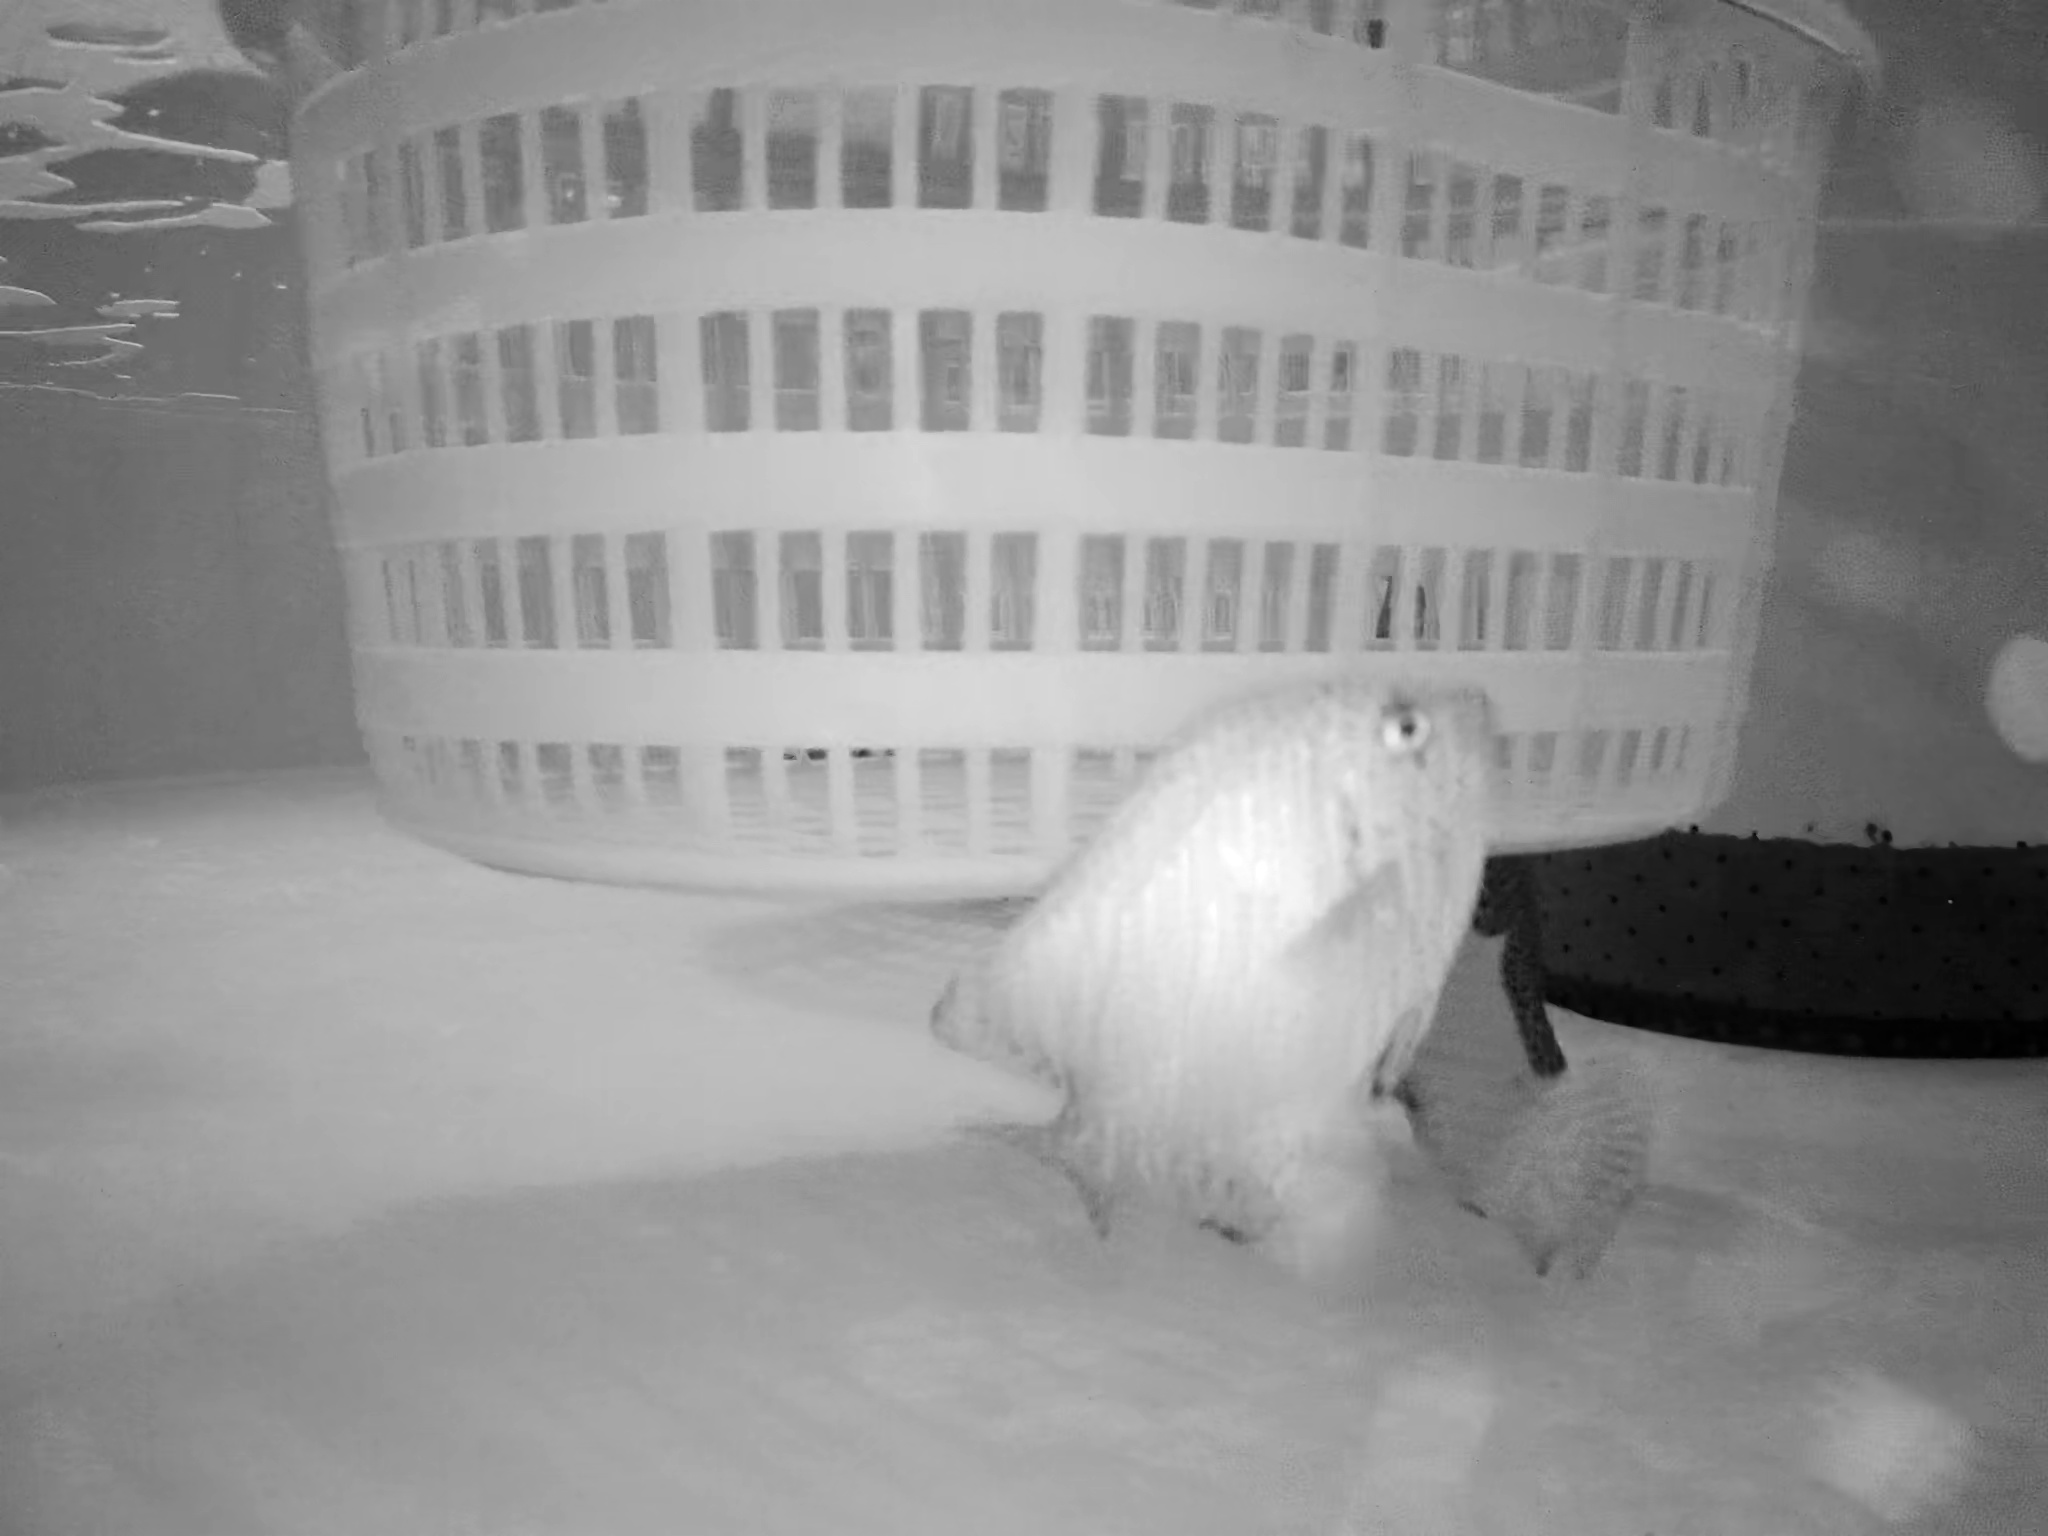fish: (918, 670, 1479, 1271), (1401, 931, 1648, 1281)
